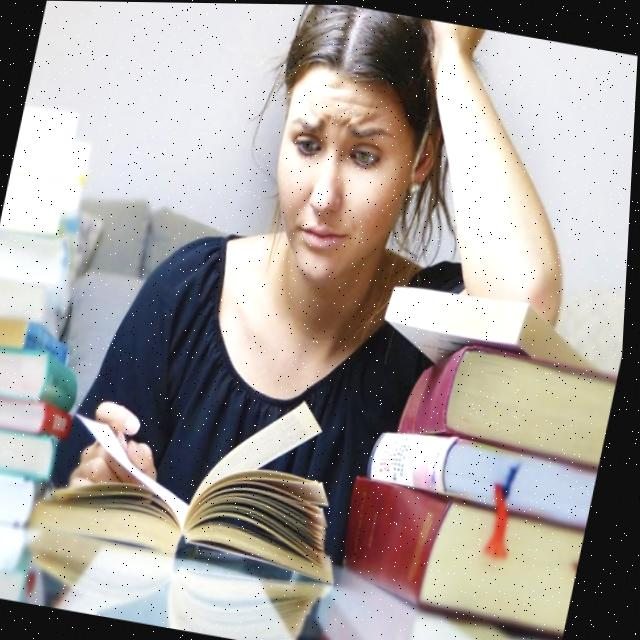studying-person: (20, 1, 639, 640)
